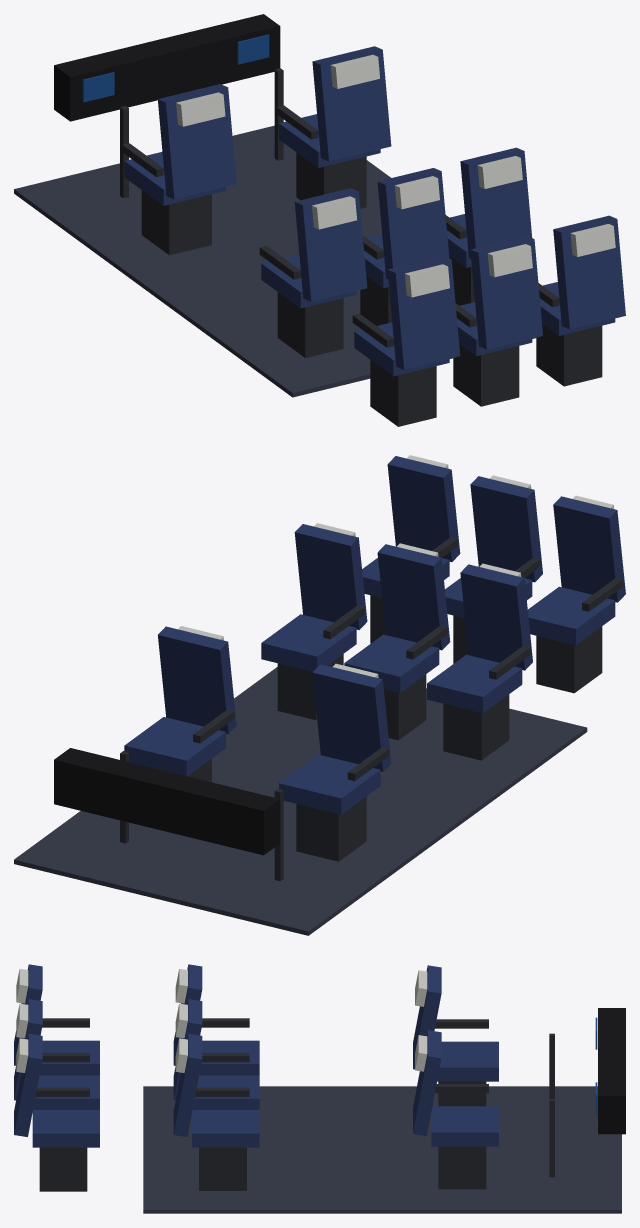
The model's file is lat_heli_twin_cabin.dae.
The picture shows the model from 3 angles, top to bottom: view 1: azimuth 30°, elevation 25°; view 2: azimuth 150°, elevation 25°; view 3: azimuth 270°, elevation 25°; orthographic projection. The views are drawn at different scales.
Parts seen in each view (by area): view 1: lat_heli_twin_cabin64; view 2: lat_heli_twin_cabin64; view 3: lat_heli_twin_cabin64.
Boxes of the visible parts, left/top/right/bottom form: lat_heli_twin_cabin64: left=14, top=14, right=625, bottom=426; lat_heli_twin_cabin64: left=14, top=455, right=625, bottom=935; lat_heli_twin_cabin64: left=14, top=964, right=625, bottom=1213.
Bounding box in the file's own units: 2.08 × 4.36 × 1.11.
